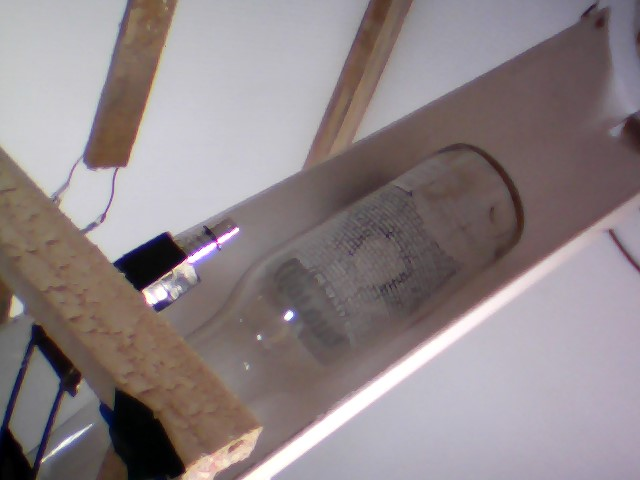vidrio: (185, 141, 531, 410)
